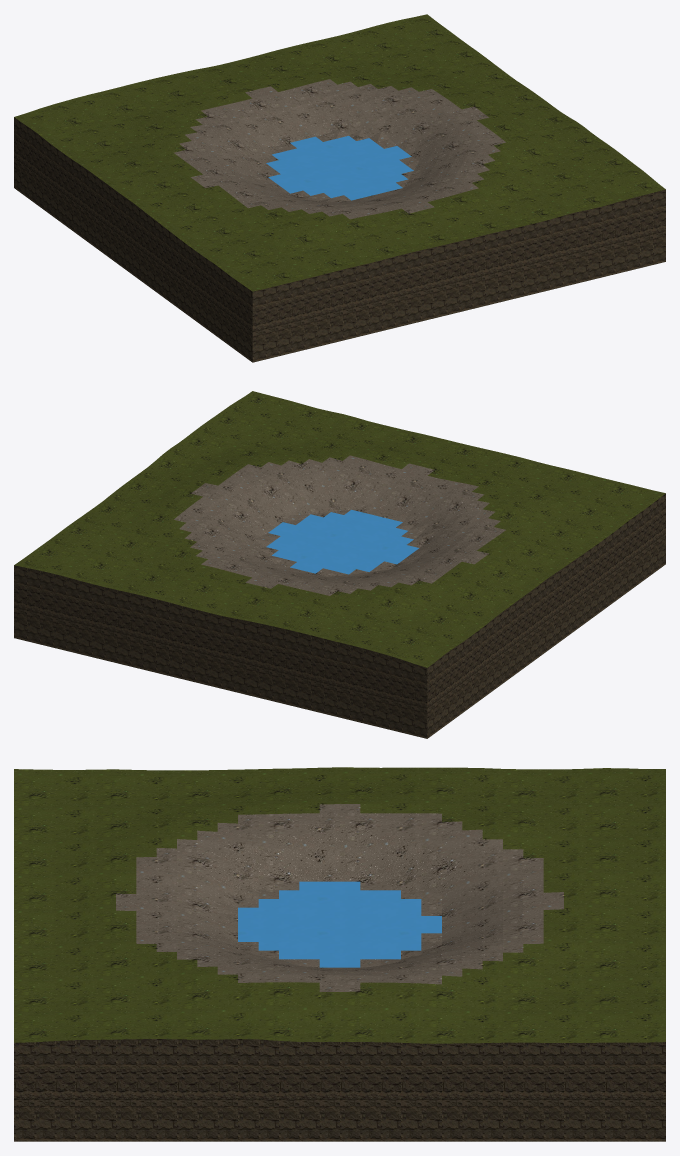
The model's file is pond_01.glb.
The picture shows the model from 3 angles, top to bottom: view 1: azimuth 30°, elevation 25°; view 2: azimuth 150°, elevation 25°; view 3: azimuth 270°, elevation 25°; orthographic projection. The views are drawn at different scales.
Parts seen in each view (by area): view 1: pond_01; view 2: pond_01; view 3: pond_01.
Boxes of the visible parts, bbox=[...] form: pond_01: bbox=[14, 14, 665, 362]; pond_01: bbox=[14, 391, 665, 738]; pond_01: bbox=[14, 767, 665, 1141].
Bounding box in the file's own units: 16 × 2.91 × 16.
Materials: 4 (4 with a texture image).
